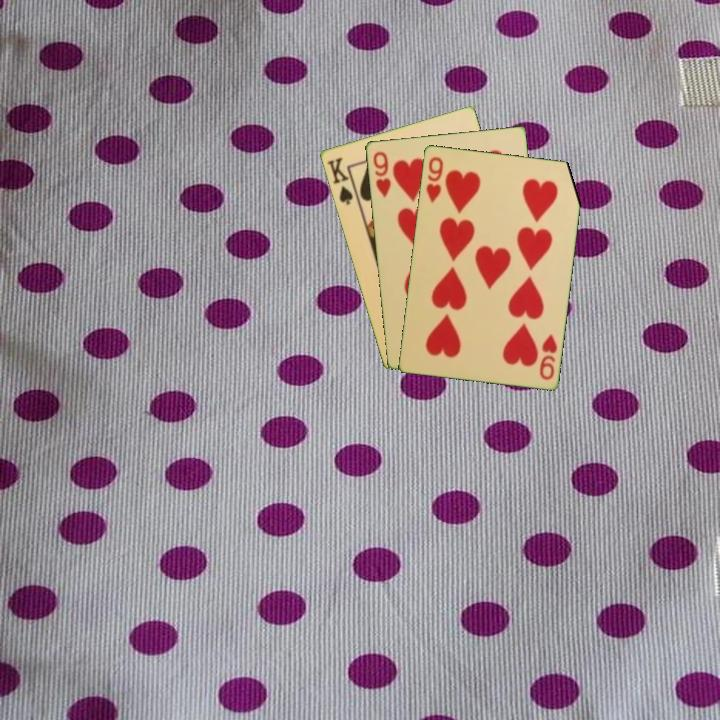9h: (369, 148, 393, 200), (422, 153, 446, 205), (536, 330, 560, 382)
Ks: (323, 154, 360, 207)
